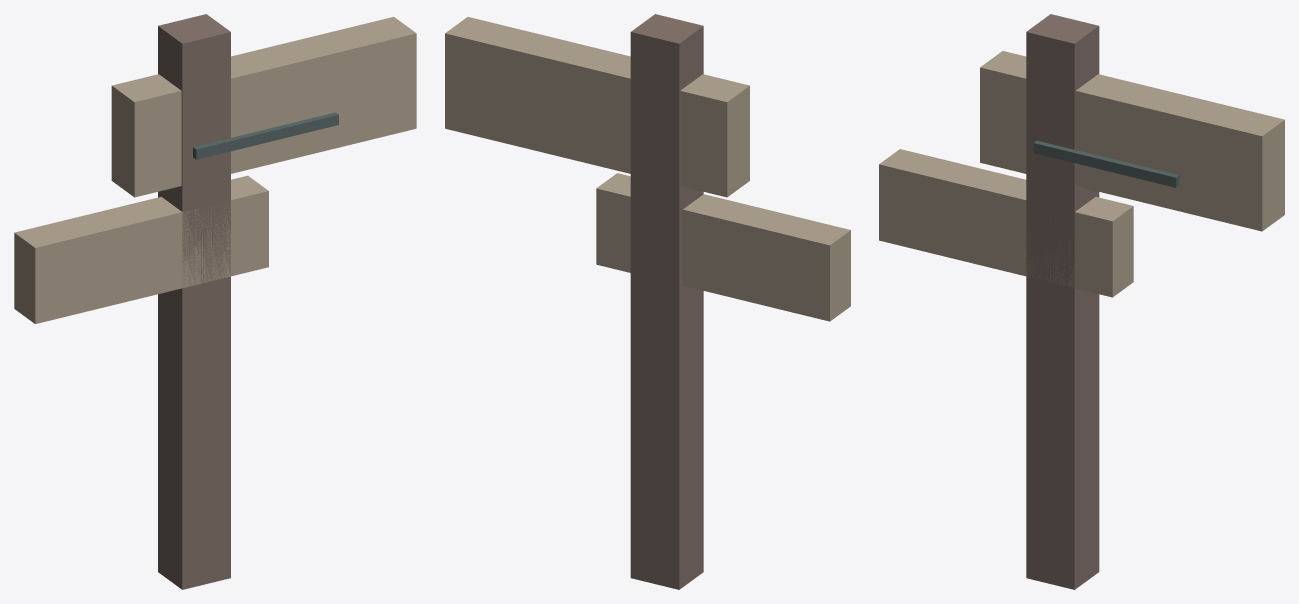
The model's file is wrong_way_signpost.glb.
3 renders of one model, left to right at view 1: azimuth 30°, elevation 25°; view 2: azimuth 150°, elevation 25°; view 3: azimuth 330°, elevation 25°, orthographic.
Parts seen in each view (by area): view 1: wrong_way_signpost_material_01, wrong_way_signpost_material_00, wrong_way_signpost_material_02; view 2: wrong_way_signpost_material_01, wrong_way_signpost_material_00; view 3: wrong_way_signpost_material_01, wrong_way_signpost_material_00, wrong_way_signpost_material_02.
Boxes of the visible parts, box(x1,y1,x2,y2) form: wrong_way_signpost_material_01: box(14, 17, 416, 323); wrong_way_signpost_material_00: box(158, 14, 230, 589); wrong_way_signpost_material_02: box(193, 112, 338, 159); wrong_way_signpost_material_01: box(445, 17, 850, 321); wrong_way_signpost_material_00: box(630, 14, 703, 589); wrong_way_signpost_material_01: box(879, 51, 1284, 297); wrong_way_signpost_material_00: box(1026, 14, 1099, 589); wrong_way_signpost_material_02: box(1033, 140, 1179, 187).
Size of the model in its own units: 1.26 by 1.72 by 0.1585.
